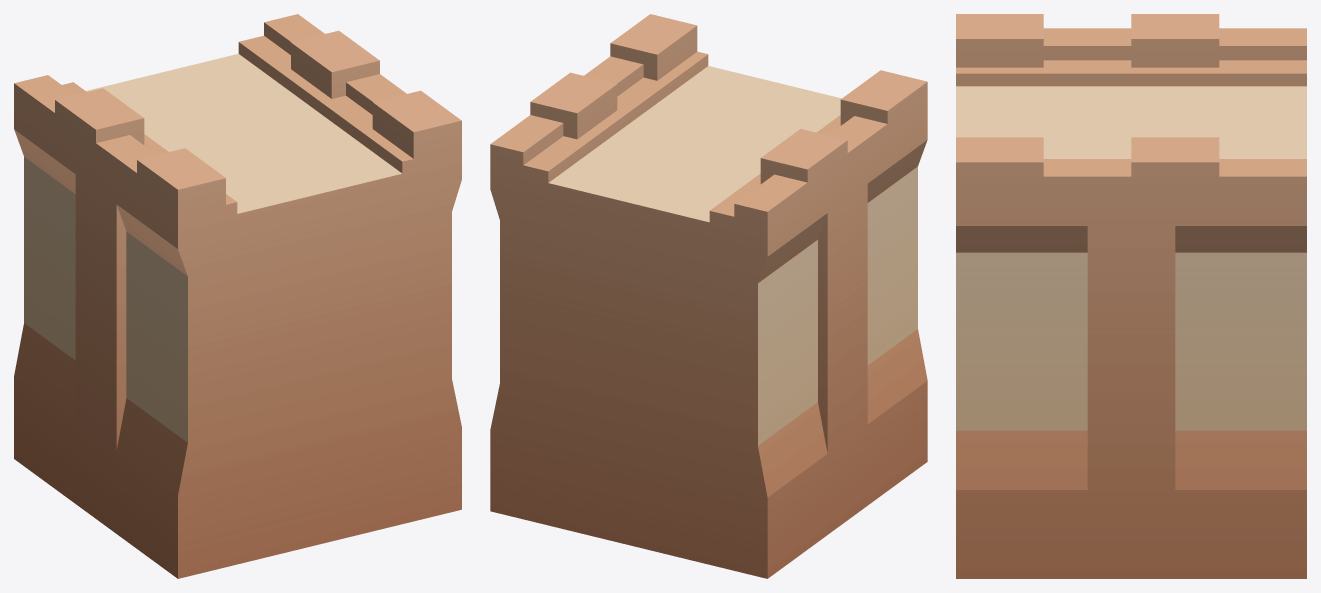
Rendered from wall-pillar.obj.
3 renders of one model, left to right at view 1: azimuth 30°, elevation 25°; view 2: azimuth 150°, elevation 25°; view 3: azimuth 270°, elevation 25°, orthographic. The views are drawn at different scales.
Parts seen in each view (by area): view 1: wall-pillar; view 2: wall-pillar; view 3: wall-pillar.
Boxes of the visible parts, <box> form: wall-pillar: <box>14,14,461,578</box>; wall-pillar: <box>490,14,927,578</box>; wall-pillar: <box>956,14,1306,578</box>.
Bounding box in the file's own units: 1 × 1.31 × 1.
1 material, 1 textured.
